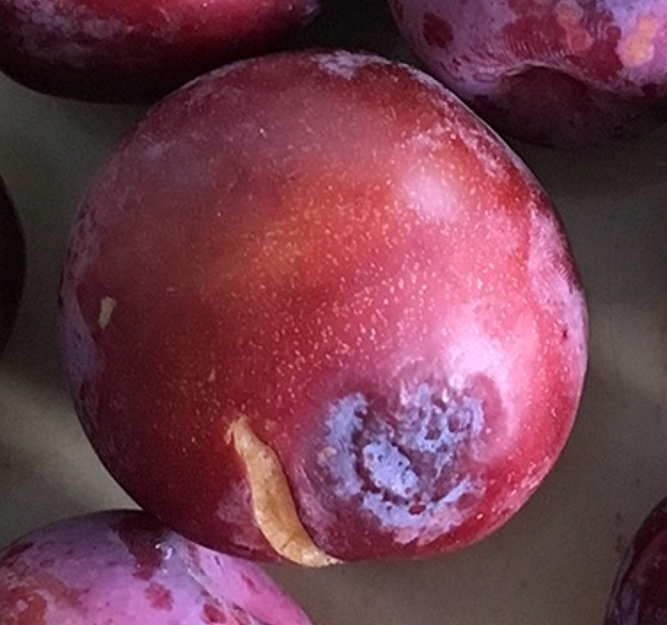plum_C: (59, 46, 592, 569)
